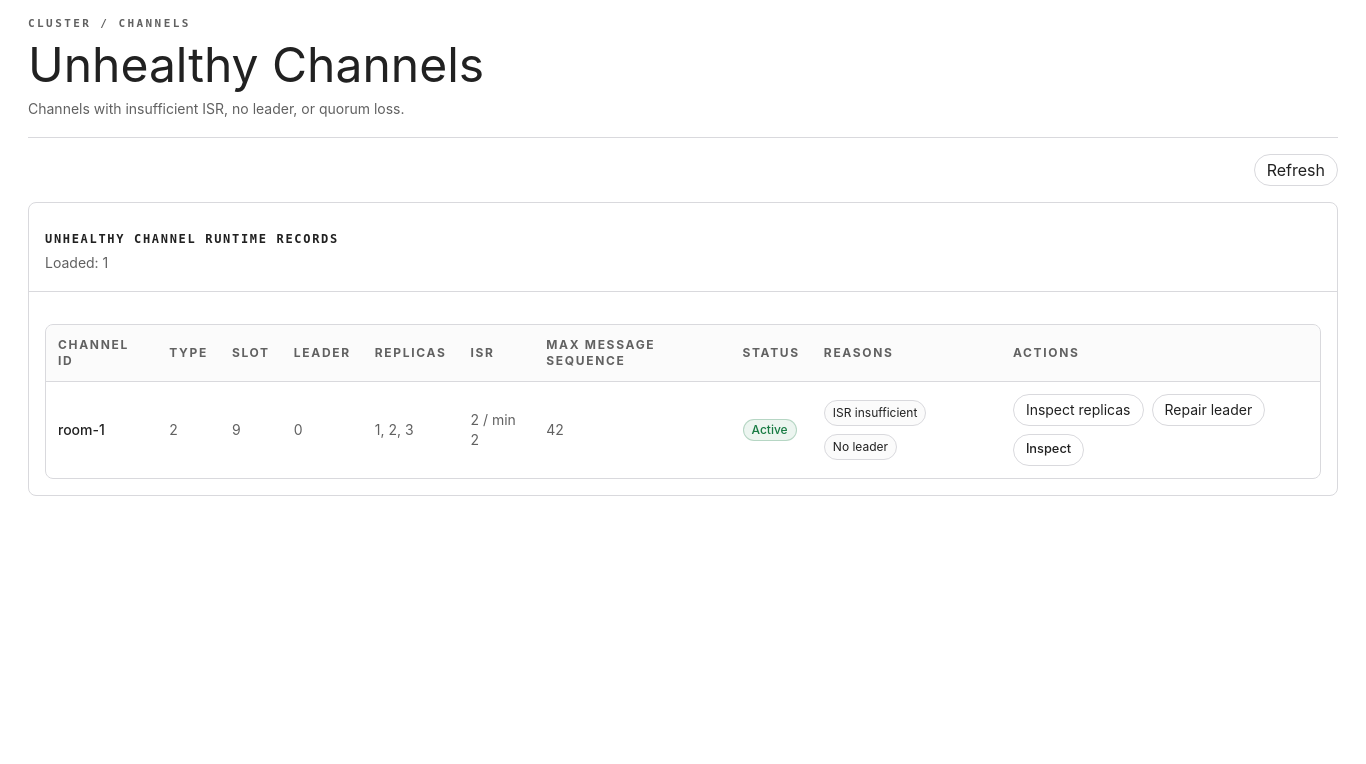
it: inspects replica detail with reported and unknown values
The image size is (1366, 764).
Click the button "Inspect replicas" at (1078, 410), box [1013, 394, 1144, 426]
(page scrolled)
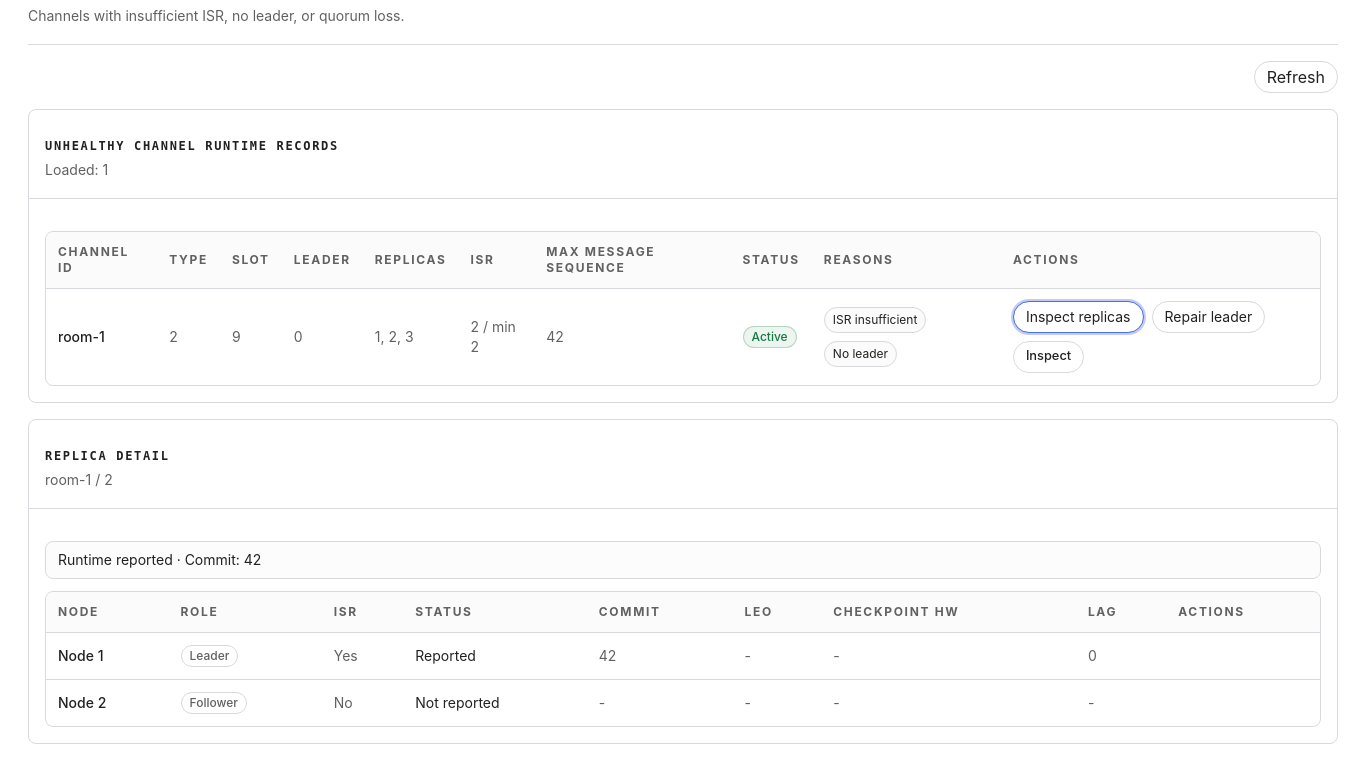
expect the text "Runtime reported · Commit: 42" is shown: met, box [45, 540, 1321, 578]
expect the text "Leader" is shown: met, box [180, 644, 238, 666]
expect the text "Reported" is shown: met, box [403, 632, 587, 679]
